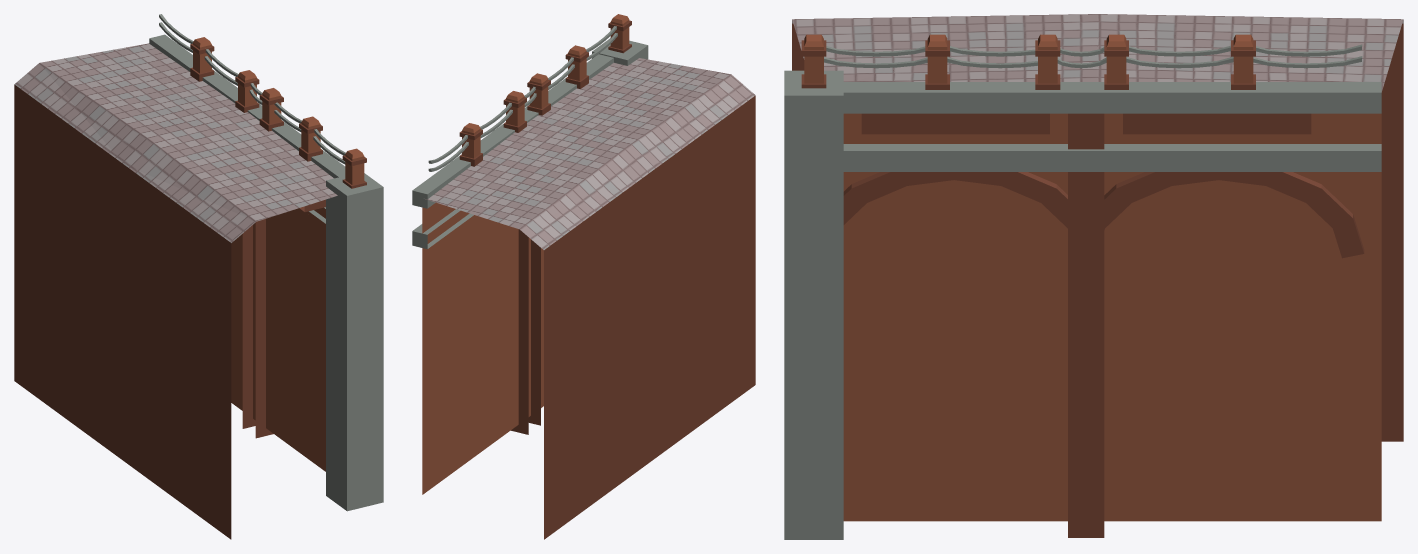
The model's file is RiverWall.glb.
3 views of the same model, side by side, from view 1: azimuth 30°, elevation 25°; view 2: azimuth 150°, elevation 25°; view 3: azimuth 270°, elevation 25° (orthographic). The views are drawn at different scales.
Visible parts, largest first — view 1: Cube_047; view 2: Cube_047; view 3: Cube_047.
Boxes of the visible parts, box(x1,y1,x2,y2) form: Cube_047: box(14, 14, 383, 539); Cube_047: box(412, 14, 755, 539); Cube_047: box(784, 14, 1403, 539).
Bounding box in the file's own units: 4.29 × 9.61 × 10.92.
2 materials, 2 textured.
